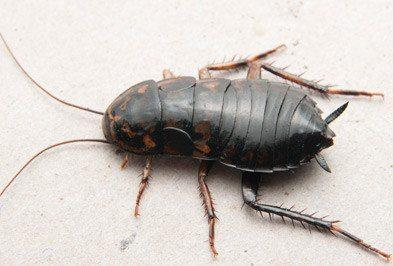cockroach: (98, 64, 354, 191)
